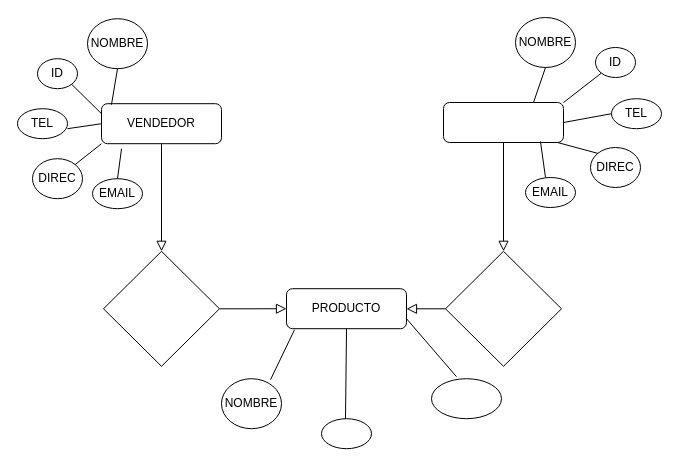
Image size: 679x467. Some labels were removed from this diagram. Each missing label, with the centre of its shape:
CANT: the point at 346,433
CLIENTE: the point at 503,122
COMPRA: the point at 503,308
FECH- VENC: the point at 466,398
VENTA: the point at 161,308
